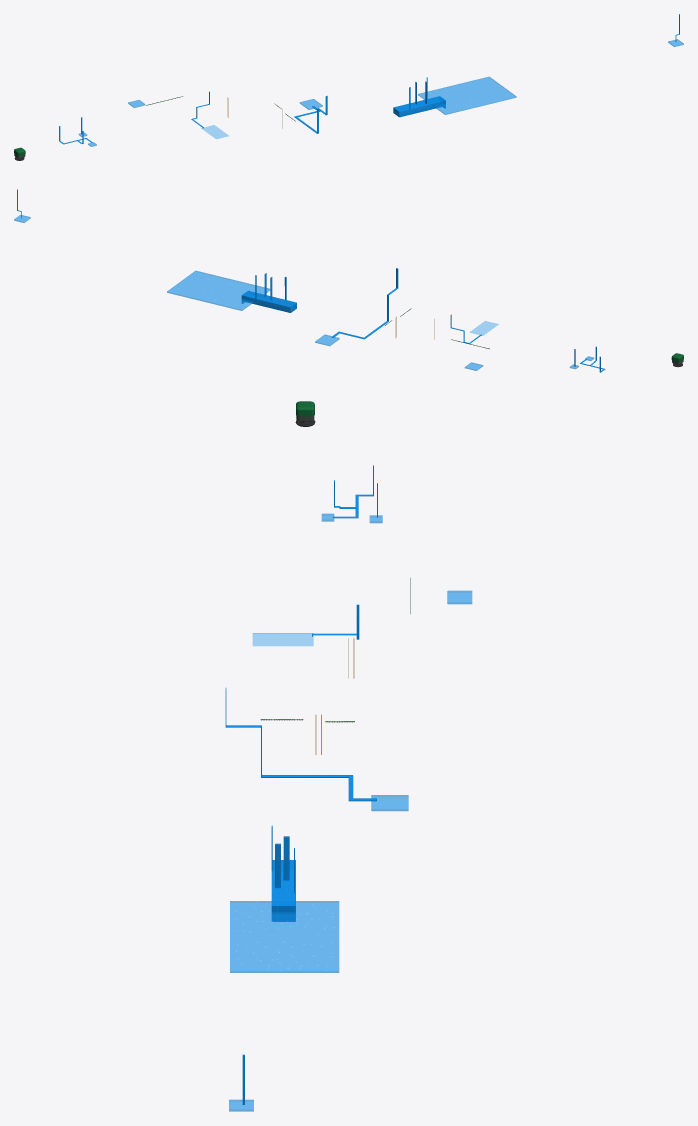
File: Level5.fbx
3 views of the same model, one above another, from view 1: azimuth 30°, elevation 25°; view 2: azimuth 150°, elevation 25°; view 3: azimuth 270°, elevation 25° (orthographic). The views are drawn at different scales.
Parts seen in each view (by area): view 1: WaterStill56, WaterStill55, River61; view 2: WaterStill56, WaterStill55; view 3: WaterStill56.
Boxes of the visible parts, x1,y1,x2,y2 form: WaterStill56: (418,76,516,114); WaterStill55: (393,96,445,117); River61: (294,95,327,133); WaterStill56: (167,270,270,310); WaterStill55: (242,291,296,312); WaterStill56: (230,901,339,972).
Size of what is drawn, in the model's own units: 544 by 43.89 by 89.51.
